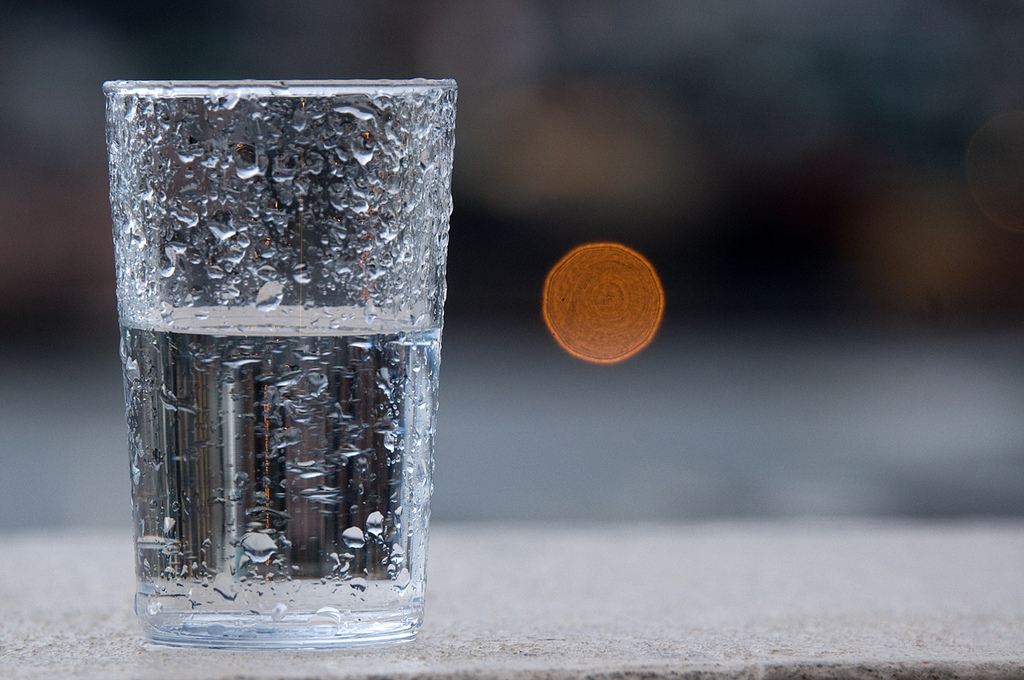glass of water: (97, 60, 447, 656)
